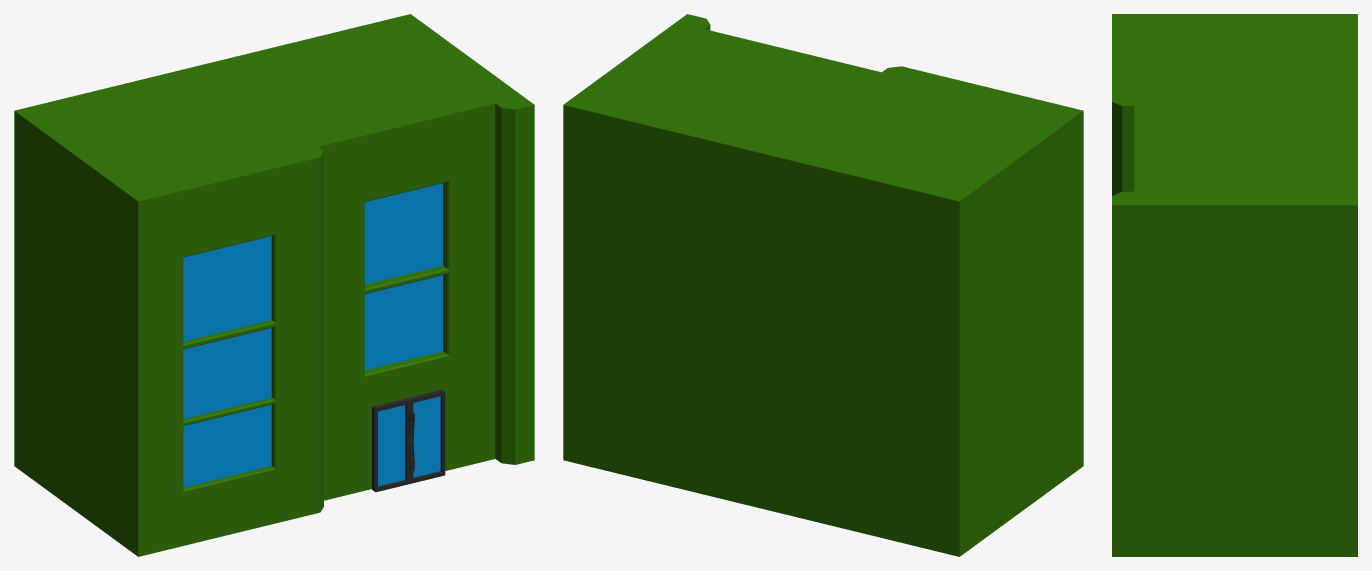
Rendered from GreenBuild.fbx.
3 views of the same model, side by side, from view 1: azimuth 30°, elevation 25°; view 2: azimuth 150°, elevation 25°; view 3: azimuth 270°, elevation 25° (orthographic).
Visible parts, largest first — view 1: Cube.003; view 2: Cube.003; view 3: Cube.003.
Part boxes in pixels (x1,y1,x2,y2): Cube.003: (14,14,534,556); Cube.003: (563,14,1083,556); Cube.003: (1112,14,1357,556).
Size of the model in its own units: 405 by 348 by 220.
